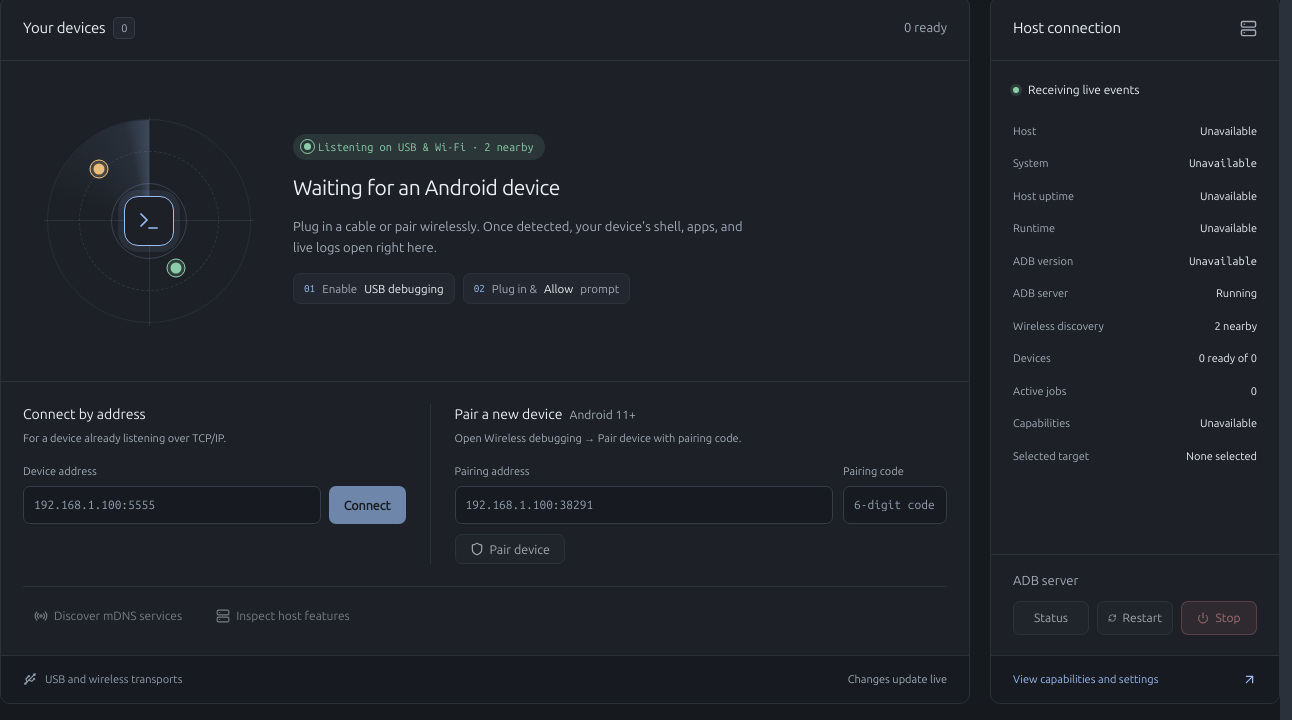
Test: OverviewPage wireless connections › plots real nearby mDNS services as interactive radar dots
This screenshot has width=1292, height=720.
Later steps or results of the test are not shown.
(page scrolled)
Click the button named "Galaxy-Tab (192.168.1.77:39111) — Click to pair".
click(99, 169)  # box [93,164,104,175]
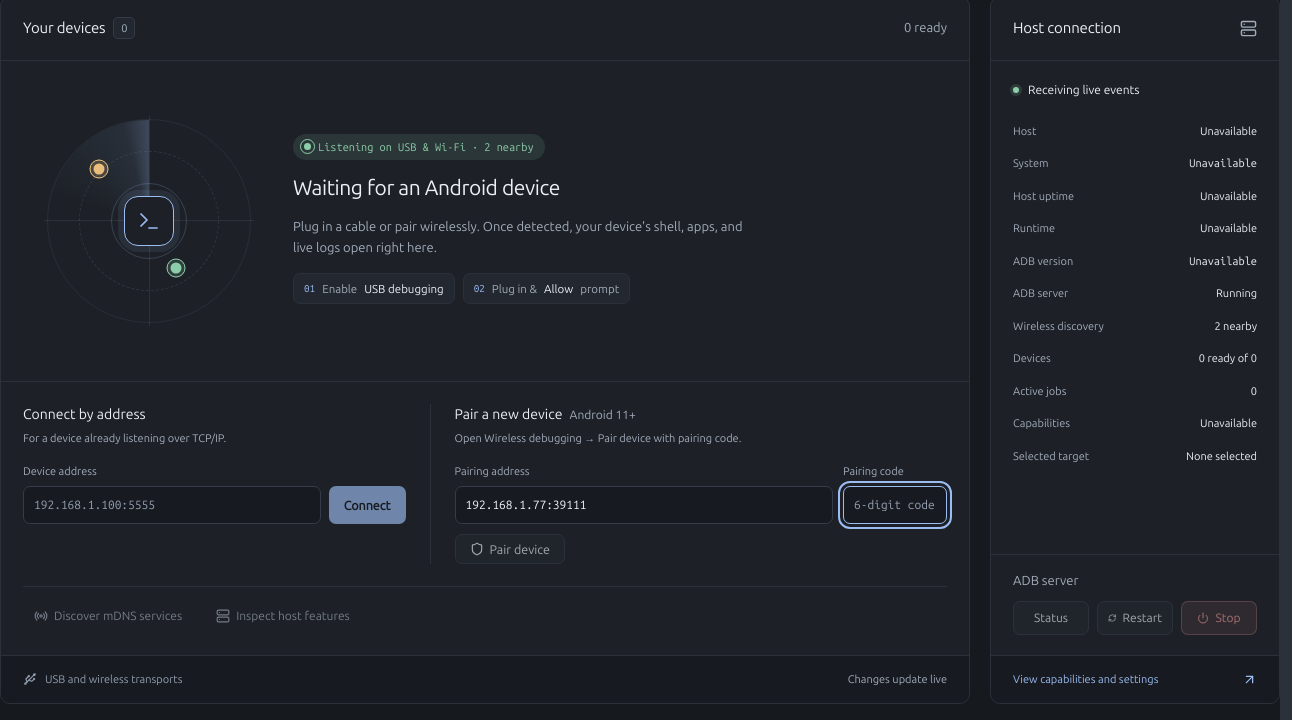
Expected: the field named "Pairing host" holds "192.168.1.77:39111", [454,486,833,524]
